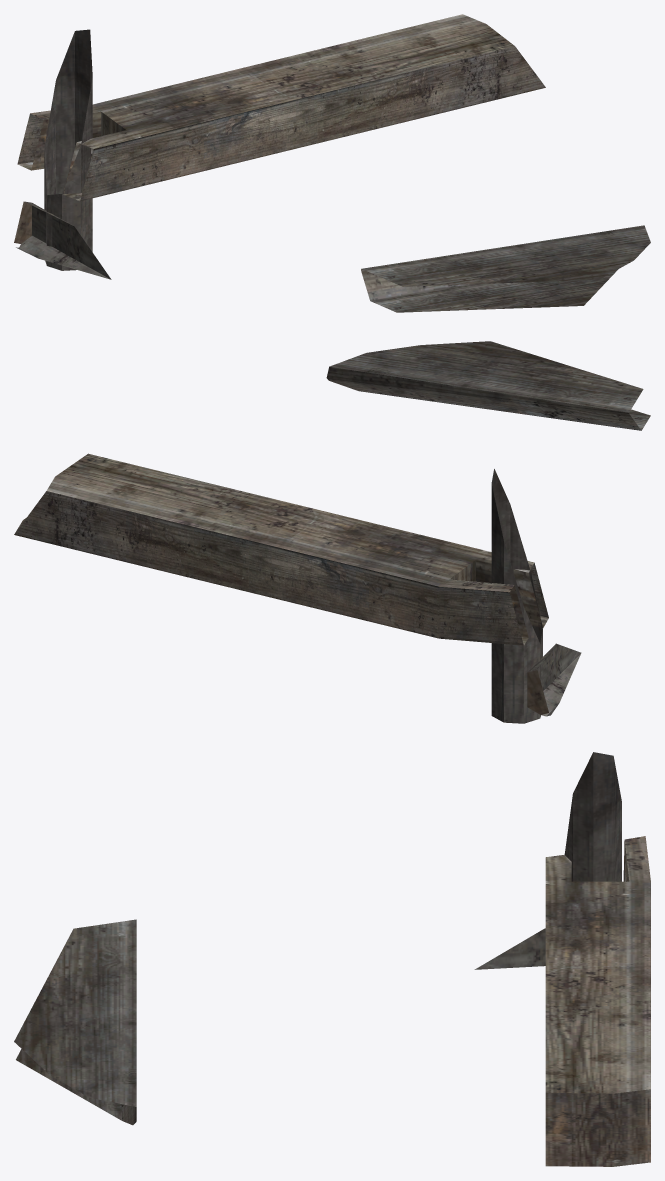
File: Wagon3_21.fbx
3 views of the same model, one above another, from view 1: azimuth 30°, elevation 25°; view 2: azimuth 150°, elevation 25°; view 3: azimuth 270°, elevation 25° (orthographic). The views are drawn at different scales.
Parts seen in each view (by area): view 1: SM_Wagon03_DM.021; view 2: SM_Wagon03_DM.021; view 3: SM_Wagon03_DM.021.
Boxes of the visible parts, x1,y1,x2,y2 form: SM_Wagon03_DM.021: [14, 14, 650, 312]; SM_Wagon03_DM.021: [14, 341, 650, 723]; SM_Wagon03_DM.021: [14, 752, 650, 1166].
Size of the model in its own units: 8875 by 3827 by 8535.
